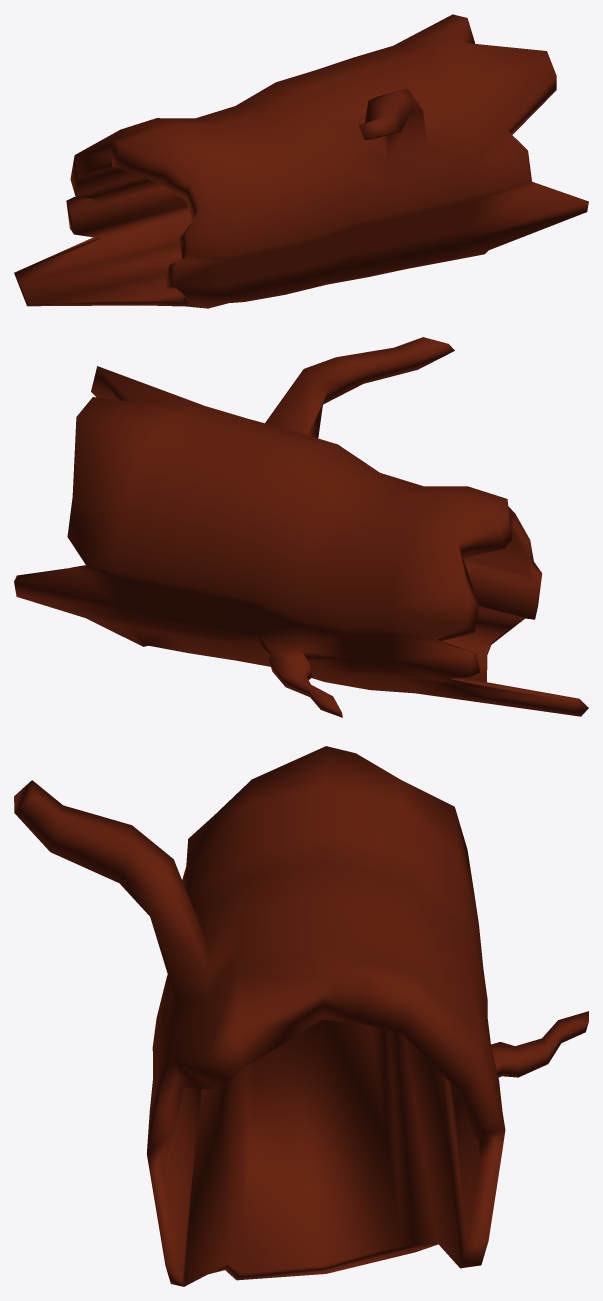
The model's file is tronco.FBX.
3 renders of one model, top to bottom at view 1: azimuth 30°, elevation 25°; view 2: azimuth 150°, elevation 25°; view 3: azimuth 270°, elevation 25°, orthographic. The views are drawn at different scales.
Visible parts, largest first — view 1: Cylinder001; view 2: Cylinder001; view 3: Cylinder001.
Boxes of the visible parts, x1,y1,x2,y2 form: Cylinder001: (14, 14, 588, 308); Cylinder001: (14, 337, 588, 717); Cylinder001: (14, 746, 588, 1286).
Size of the model in its own units: 53.4 by 23.99 by 33.26.
